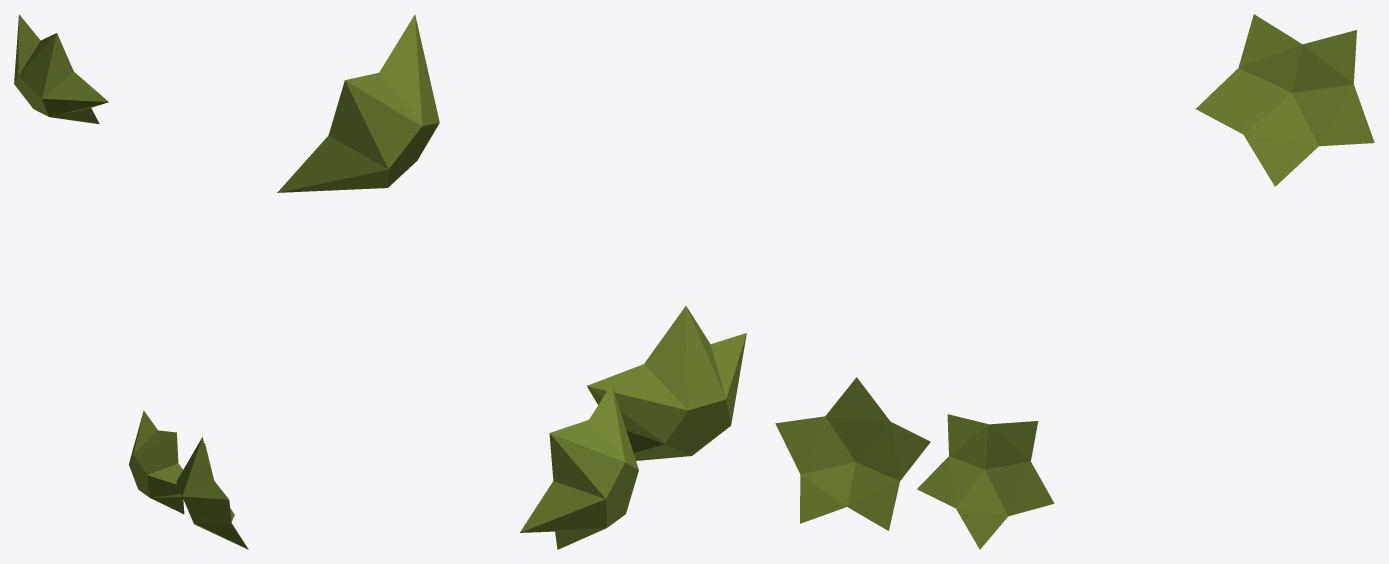
3 views of the same model, side by side, from view 1: azimuth 30°, elevation 25°; view 2: azimuth 150°, elevation 25°; view 3: azimuth 270°, elevation 25° (orthographic). The views are drawn at different scales.
Visible parts, largest first — view 1: Box15957_green2_0, Box15944_green2_0, Box15945_green2_0; view 2: Box15957_green2_0, Box15945_green2_0, Box15944_green2_0; view 3: Box15957_green2_0, Box15945_green2_0, Box15944_green2_0.
Boxes of the visible parts, x1,y1,x2,y2 form: Box15957_green2_0: (14,14,108,124); Box15944_green2_0: (129,410,184,514); Box15945_green2_0: (176,437,248,549); Box15957_green2_0: (277,14,439,192); Box15945_green2_0: (587,306,746,460); Box15944_green2_0: (520,384,638,549); Box15957_green2_0: (1196,14,1374,186); Box15945_green2_0: (775,377,930,530); Box15944_green2_0: (917,414,1054,549).
Size of the model in its own units: 89.79 by 422 by 439.
